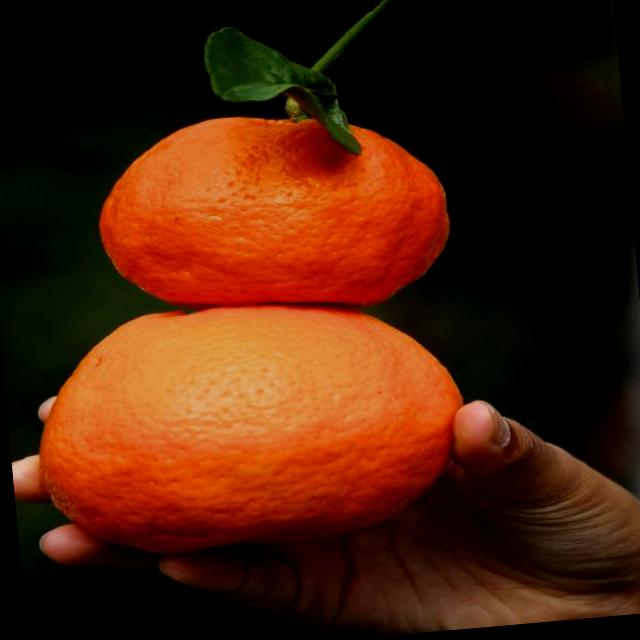Orange: (26, 285, 474, 564), (88, 96, 457, 328)
